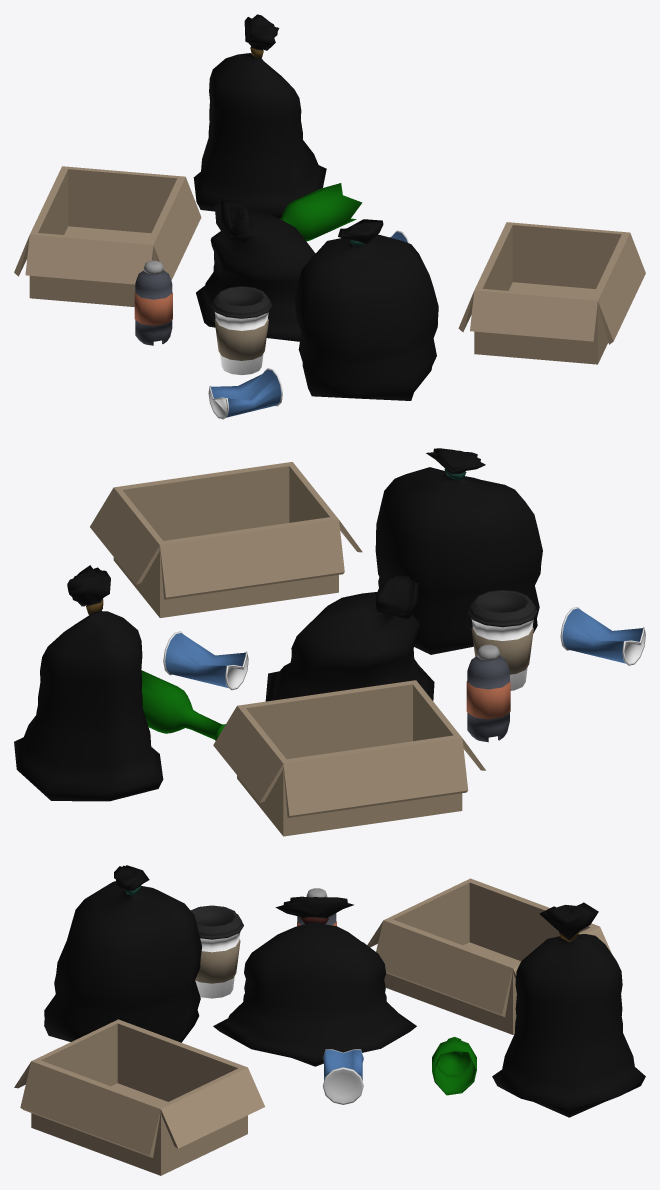
Rendered from Basura regada 2.fbx.
3 views of the same model, one above another, from view 1: azimuth 30°, elevation 25°; view 2: azimuth 150°, elevation 25°; view 3: azimuth 270°, elevation 25° (orthographic). The views are drawn at different scales.
Visible parts, largest first — view 1: Caja.001; view 2: Caja.001; view 3: Caja.001.
Boxes of the visible parts, left/top/right/bottom form: Caja.001: left=14, top=14, right=645, bottom=419; Caja.001: left=14, top=448, right=645, bottom=836; Caja.001: left=14, top=865, right=645, bottom=1175.
Size of the model in its own units: 346 by 121 by 379.
